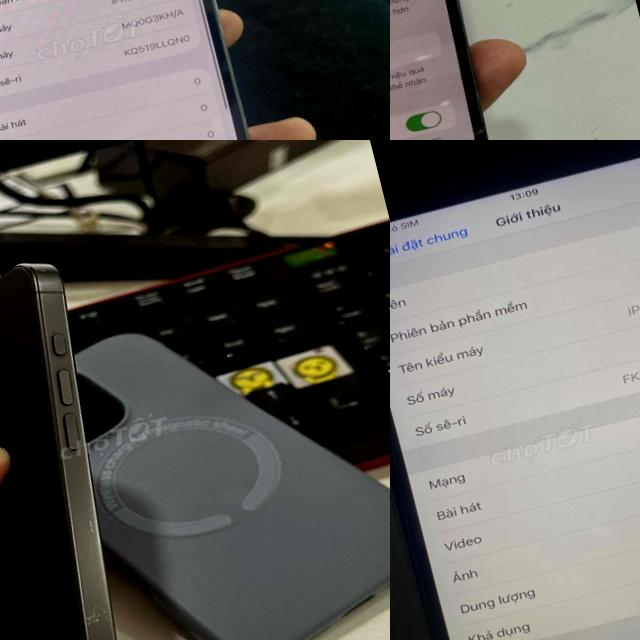gen_14: (0, 0, 294, 140), (390, 0, 546, 140)
gen_16: (0, 264, 116, 640)
gen_6: (390, 140, 640, 640)
